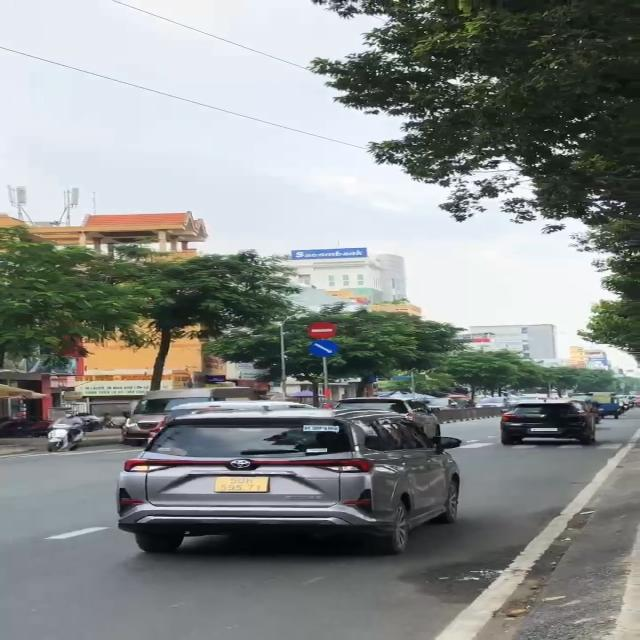Bien bao cam di nguoc chieu: (306, 321, 338, 340)
Bien bao huong phai di vong chuong ngai vat: (304, 339, 342, 360)
